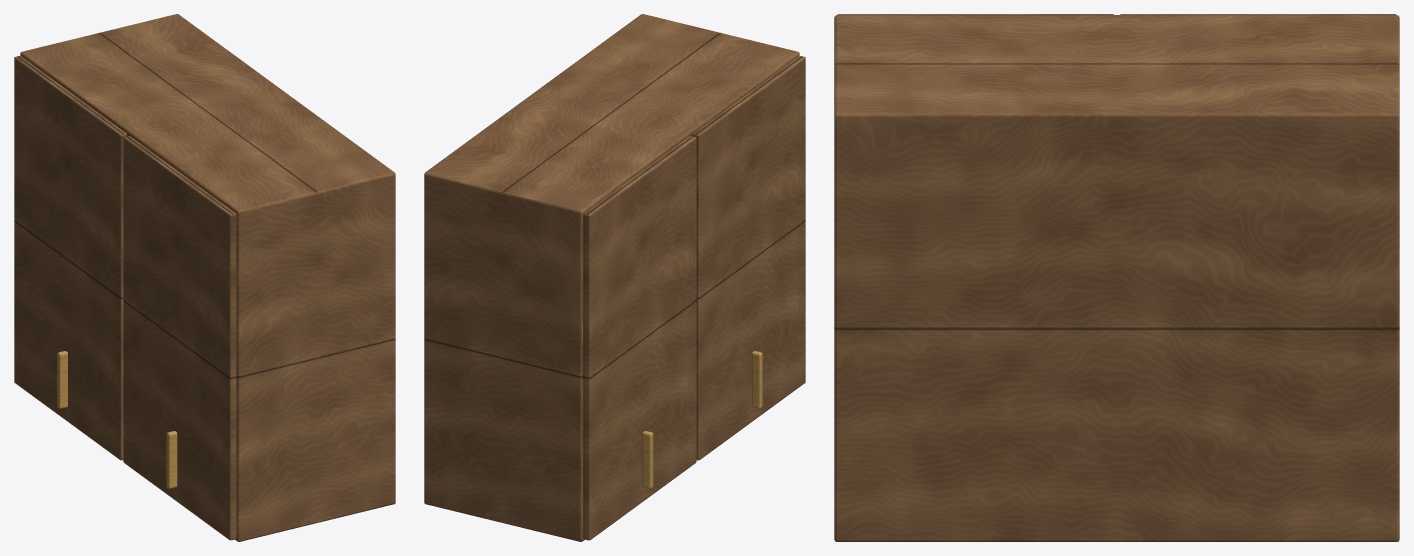
File: kitchen_wall_units_a.glb
3 views of the same model, side by side, from view 1: azimuth 30°, elevation 25°; view 2: azimuth 150°, elevation 25°; view 3: azimuth 270°, elevation 25° (orthographic). The views are drawn at different scales.
Parts seen in each view (by area): view 1: kitchen_wall_units_a; view 2: kitchen_wall_units_a; view 3: kitchen_wall_units_a.
Boxes of the visible parts, <box> form: kitchen_wall_units_a: <box>14,14,395,541</box>; kitchen_wall_units_a: <box>424,14,805,541</box>; kitchen_wall_units_a: <box>834,14,1399,541</box>.
Size of the model in its own units: 0.396 by 0.72 by 0.86.
2 materials, 2 textured.
